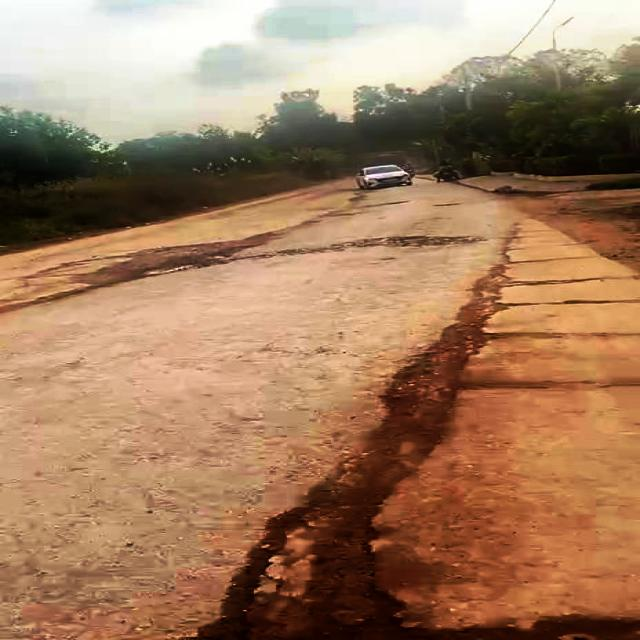pothole: (193, 495, 418, 640)
